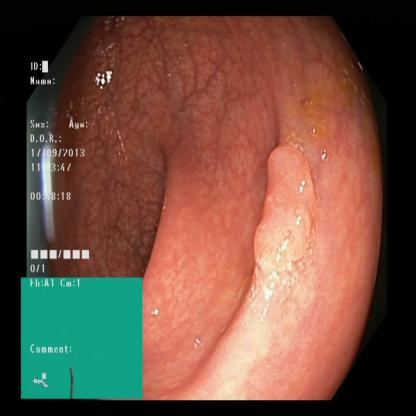Labels: (26, 57, 110, 276), (23, 278, 142, 399)
Polyps: (249, 146, 323, 282)
